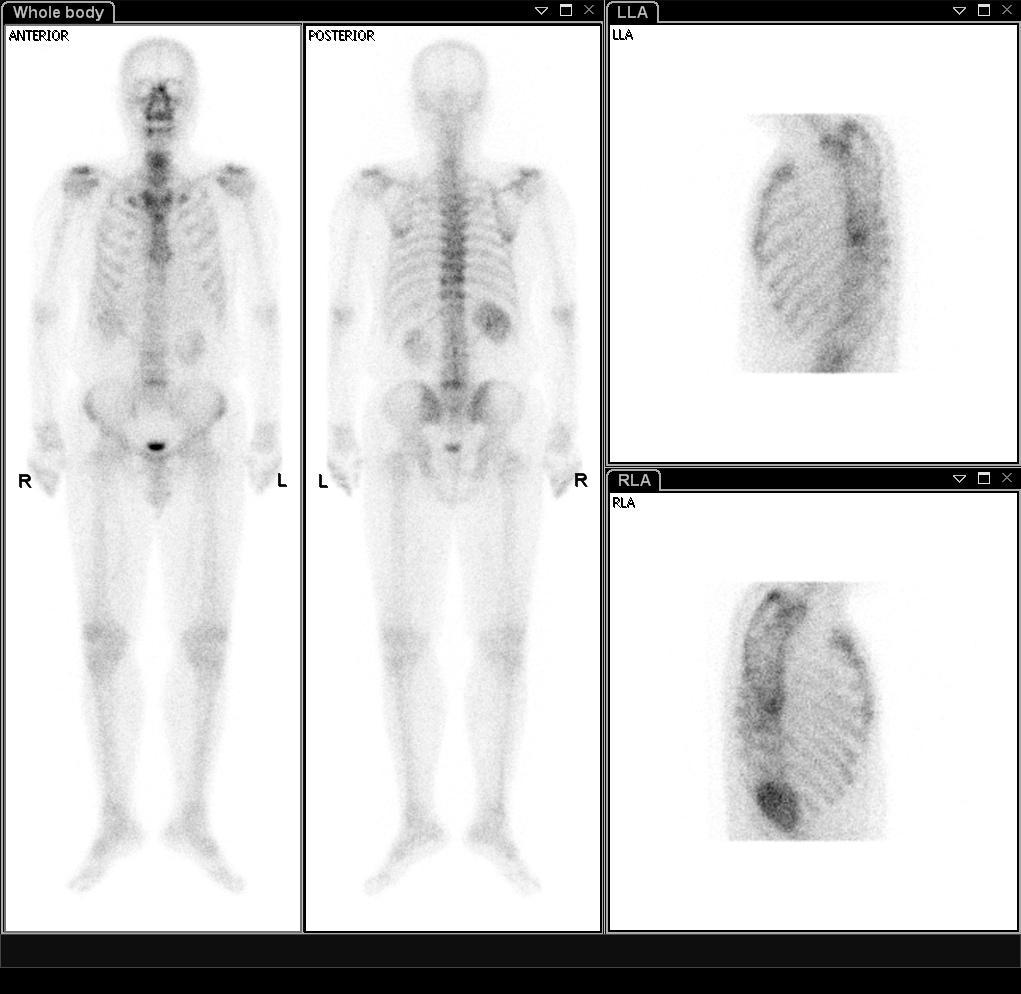person: (2, 23, 600, 931)
